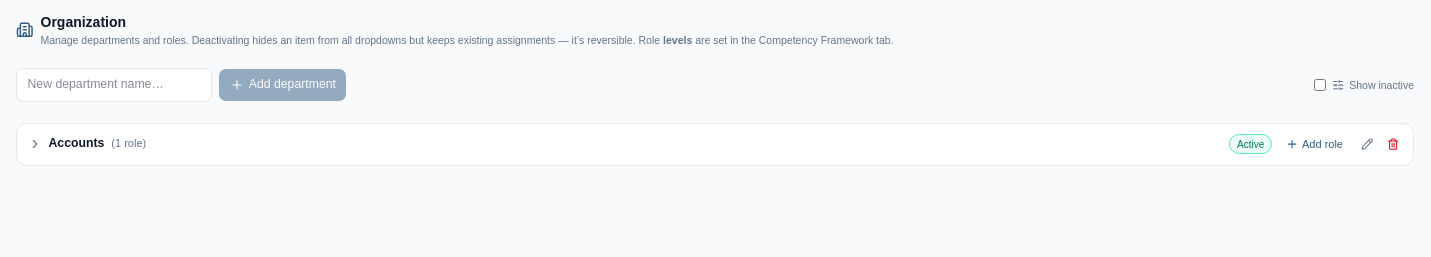
Test: OrganizationTab › keeps the header role count in sync with the visible list under Show inactive
Click the button "Accounts(1 role)": (76, 143) [48,135,1222,153]
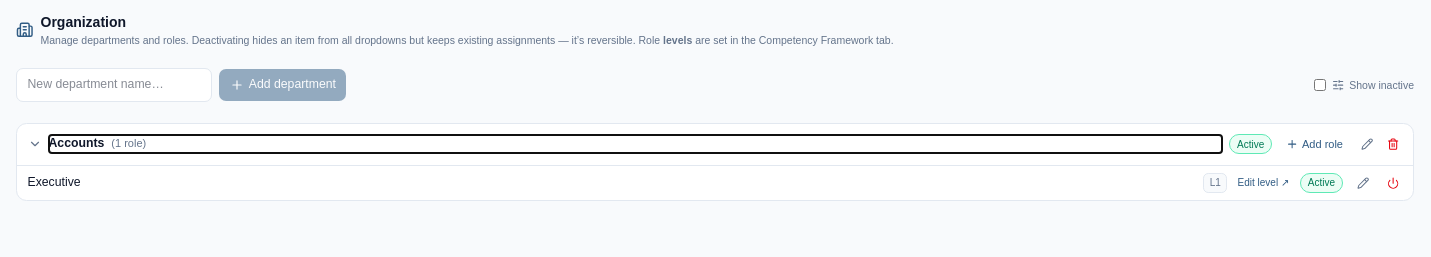
Expected: the text "(1 role)" is shown, [111,137,146,149]
Expected: the text "Retired Role" is not shown
Note: Reveal inactive → count and list both grow to include it.
Click the checkbox: (1320, 85) [1314,79,1326,91]
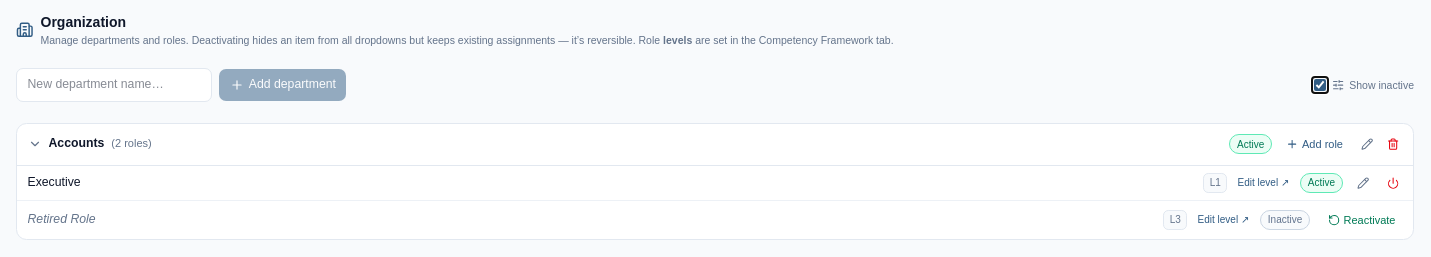
Now the text "(2 roles)" is shown, box [111,137,152,149]
Now the text "Retired Role" is shown, box [28,212,96,226]
